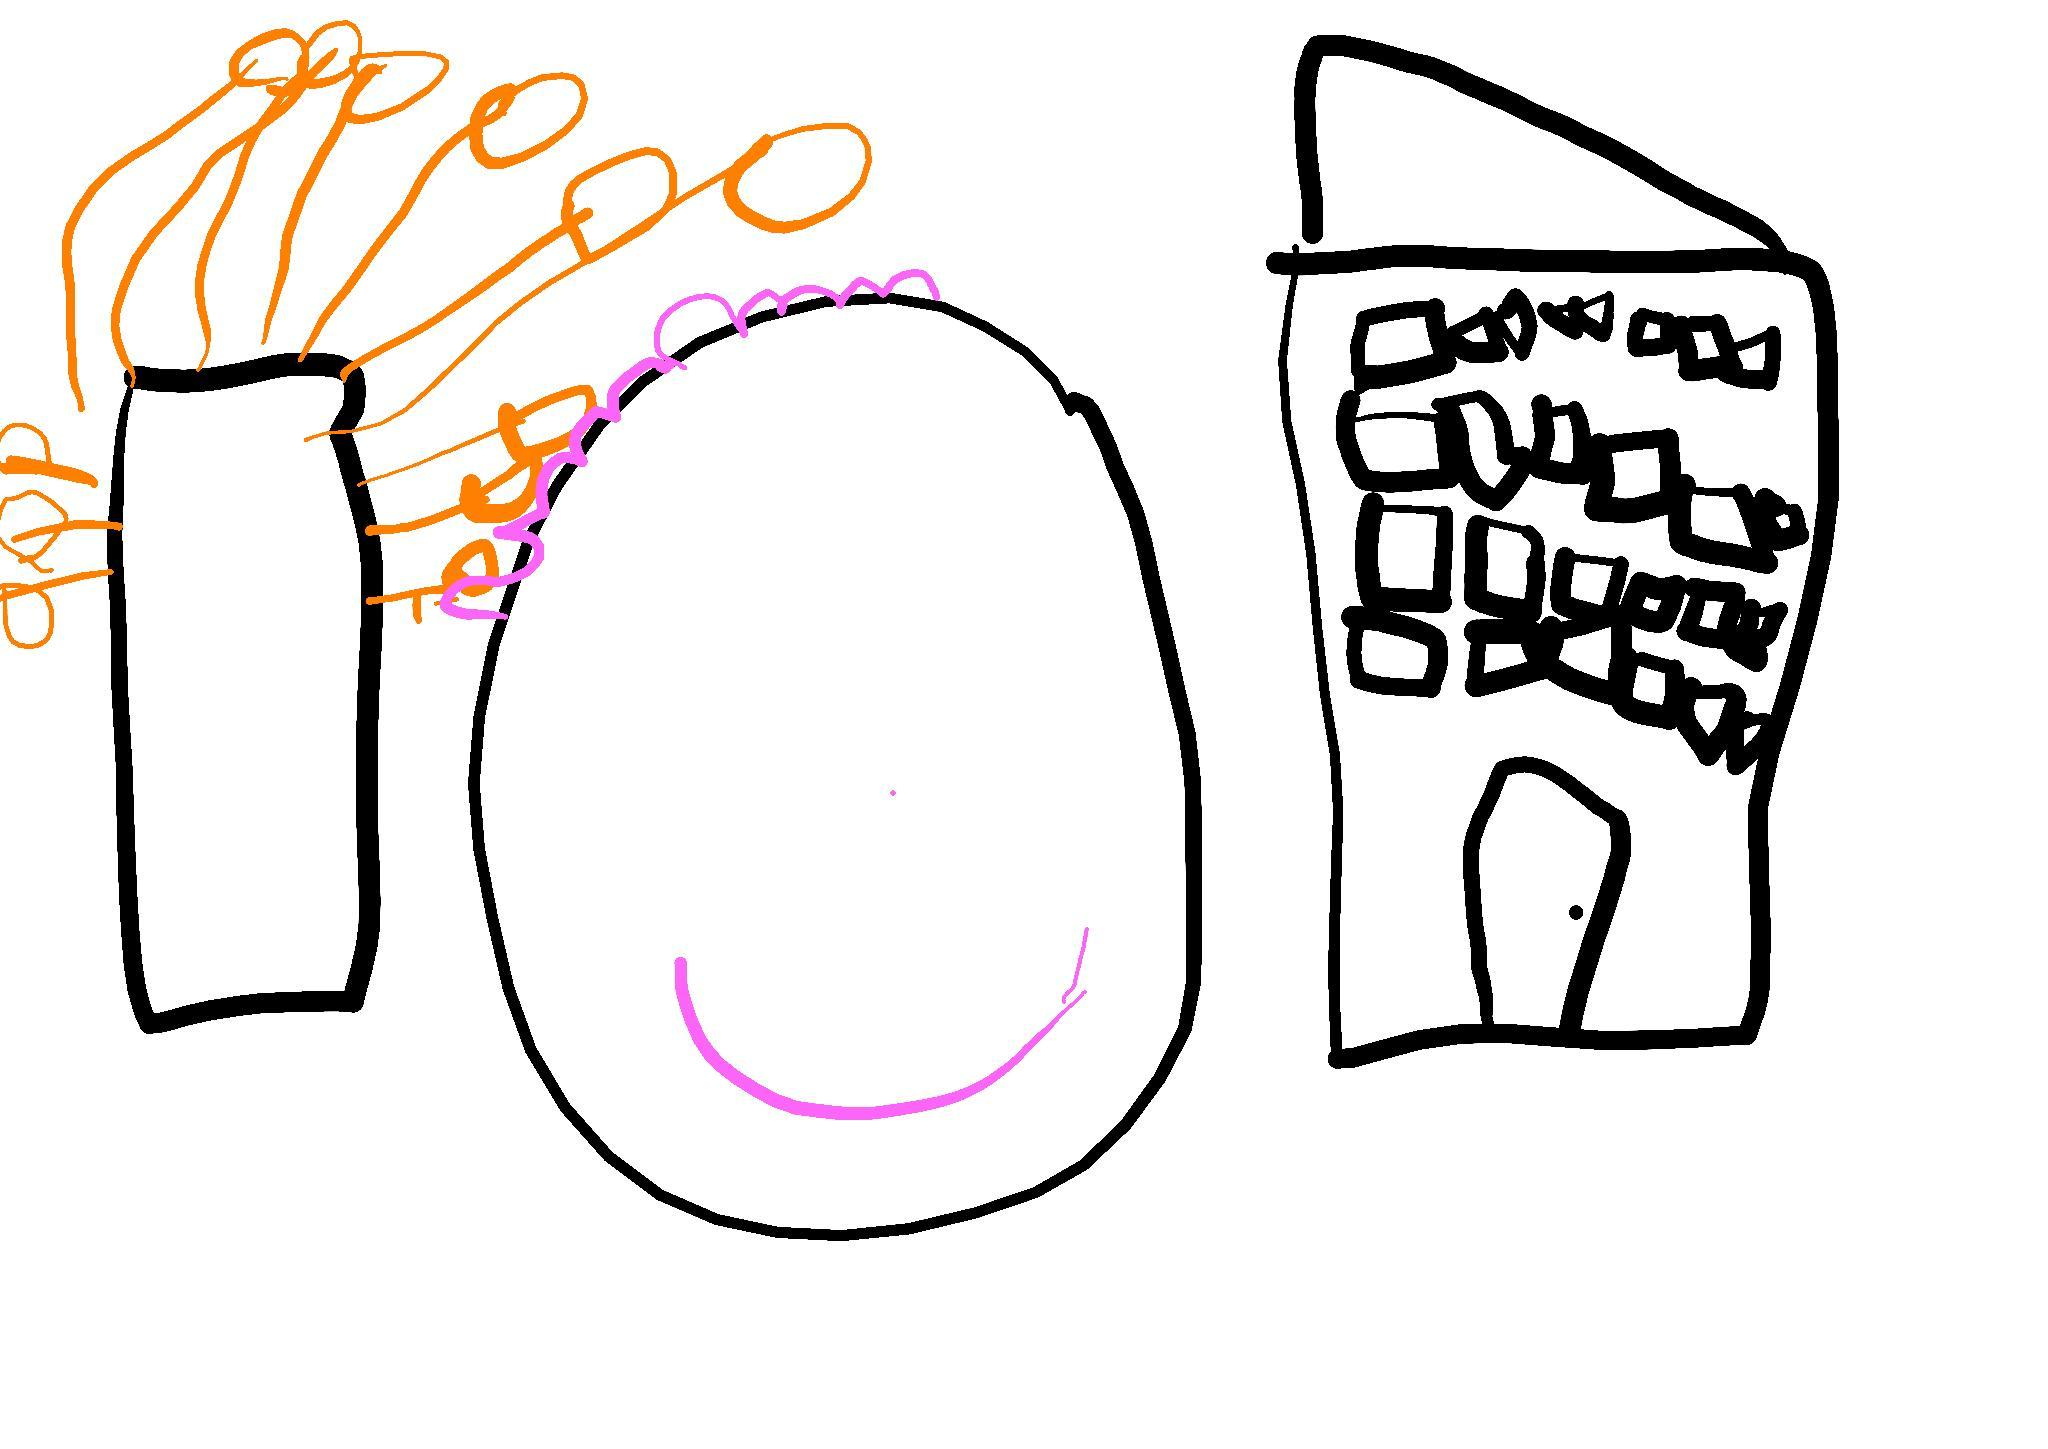door: (1483, 775, 1612, 1027)
house: (1273, 0, 1861, 1048)
roof: (1322, 56, 1752, 245)
wall: (1247, 241, 1858, 1059)
window: (1338, 389, 1458, 491), (1356, 491, 1455, 612), (1344, 605, 1451, 696), (1587, 430, 1684, 522), (1466, 514, 1548, 619), (1466, 618, 1549, 695), (1610, 649, 1687, 728)
